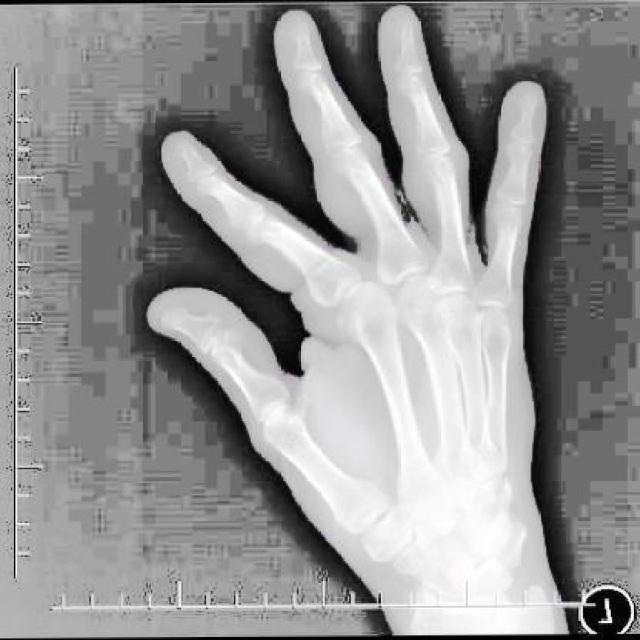Fracture: (217, 325, 243, 352)
